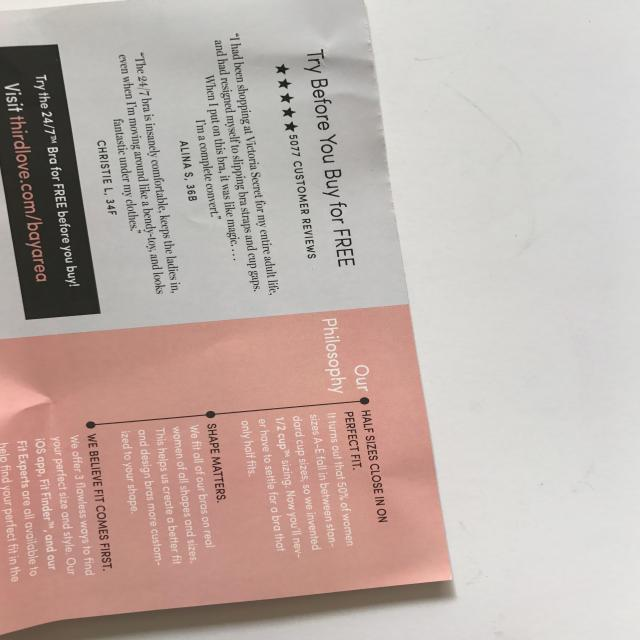paper: (0, 0, 497, 640)
